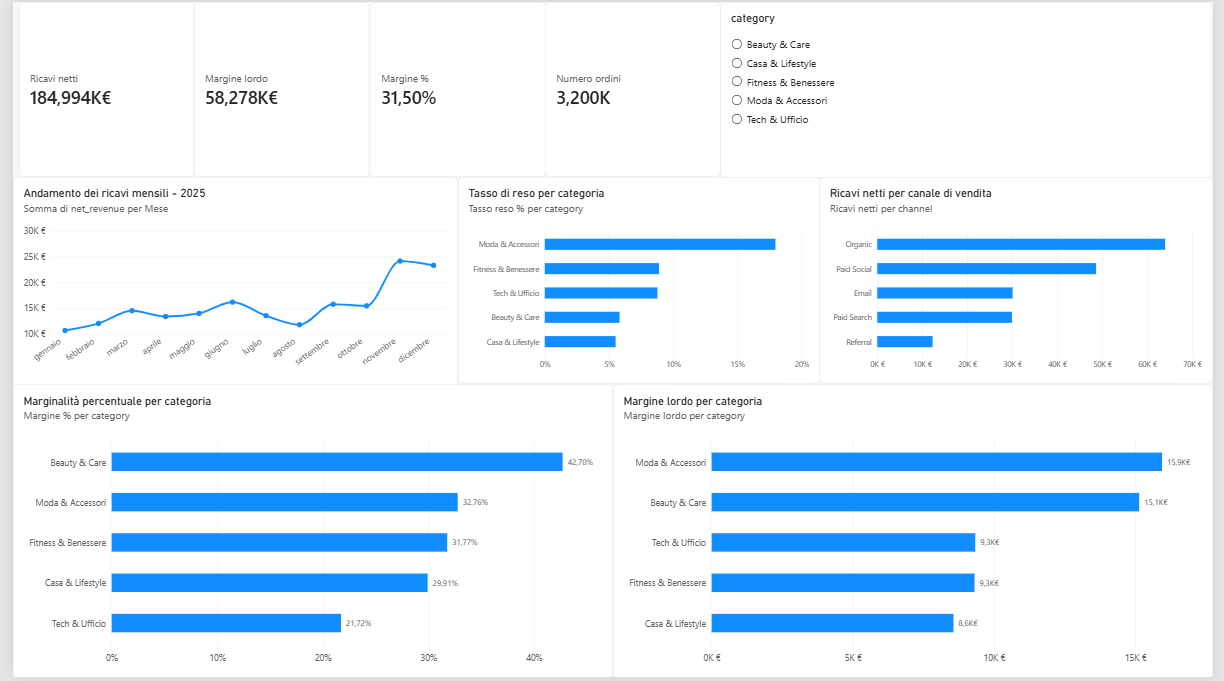

What the dashboard file says about the page in this screenshot:
{"tool":"powerbi","page":{"name":"Pagina 1","canvas":[1920,1080],"ordinal":0},"visuals":[{"type":"cardVisual","fields":{"Data":["portfolio v_sales_lines.Ricavi netti"]},"box":[10,0,280,280],"z":0},{"type":"cardVisual","fields":{"Data":["portfolio v_sales_lines.Margine lordo"]},"box":[290.2,0,280,280],"z":1000},{"type":"cardVisual","fields":{"Data":["portfolio v_sales_lines.Margine %"]},"box":[571.2,0,280,280],"z":2000},{"type":"cardVisual","fields":{"Data":["portfolio v_sales_lines.Numero ordini"]},"box":[851.9,0,280,280],"z":3000},{"type":"lineChart","title":"Andamento dei ricavi mensili - 2025","fields":{"Category":["portfolio v_sales_lines.order_date.Variazione.Gerarchia data.Mese"],"Y":["Sum(portfolio v_sales_lines.net_revenue)"]},"box":[0,280.8,959.6,336.5],"z":4000},{"type":"clusteredBarChart","title":"Margine lordo per categoria","fields":{"Category":["portfolio v_sales_lines.category"],"Y":["portfolio v_sales_lines.Margine lordo"]},"box":[959.6,611.5,821.2,469.2],"z":5000},{"type":"clusteredBarChart","title":"Marginalità percentuale per categoria","fields":{"Category":["portfolio v_sales_lines.category"],"Y":["portfolio v_sales_lines.Margine %"]},"box":[0,611.5,959.6,469.2],"z":6000},{"type":"listSlicer","fields":{"Values":["portfolio v_sales_lines.category"]},"box":[1132.7,0,648.1,280.8],"z":7000},{"type":"barChart","title":"Tasso di reso per categoria","fields":{"Category":["portfolio v_sales_lines.category"],"Y":["portfolio v_sales_lines.Tasso reso %"]},"box":[959.6,280.8,821.2,330.8],"z":7001}]}

Visuals, with their boxes in screenshot pixels (x1, y1, x2, y2), scaled from the page's 1920x1080 canvas onto the 1224x681 screenshot:
cardVisual - portfolio v_sales_lines.Ricavi netti: region(6, 0, 185, 177)
cardVisual - portfolio v_sales_lines.Margine lordo: region(185, 0, 364, 177)
cardVisual - portfolio v_sales_lines.Margine %: region(364, 0, 543, 177)
cardVisual - portfolio v_sales_lines.Numero ordini: region(543, 0, 722, 177)
"Andamento dei ricavi mensili - 2025" lineChart: region(0, 177, 612, 389)
"Margine lordo per categoria" clusteredBarChart: region(612, 386, 1135, 680)
"Marginalità percentuale per categoria" clusteredBarChart: region(0, 386, 612, 680)
listSlicer - portfolio v_sales_lines.category: region(722, 0, 1135, 177)
"Tasso di reso per categoria" barChart: region(612, 177, 1135, 386)
